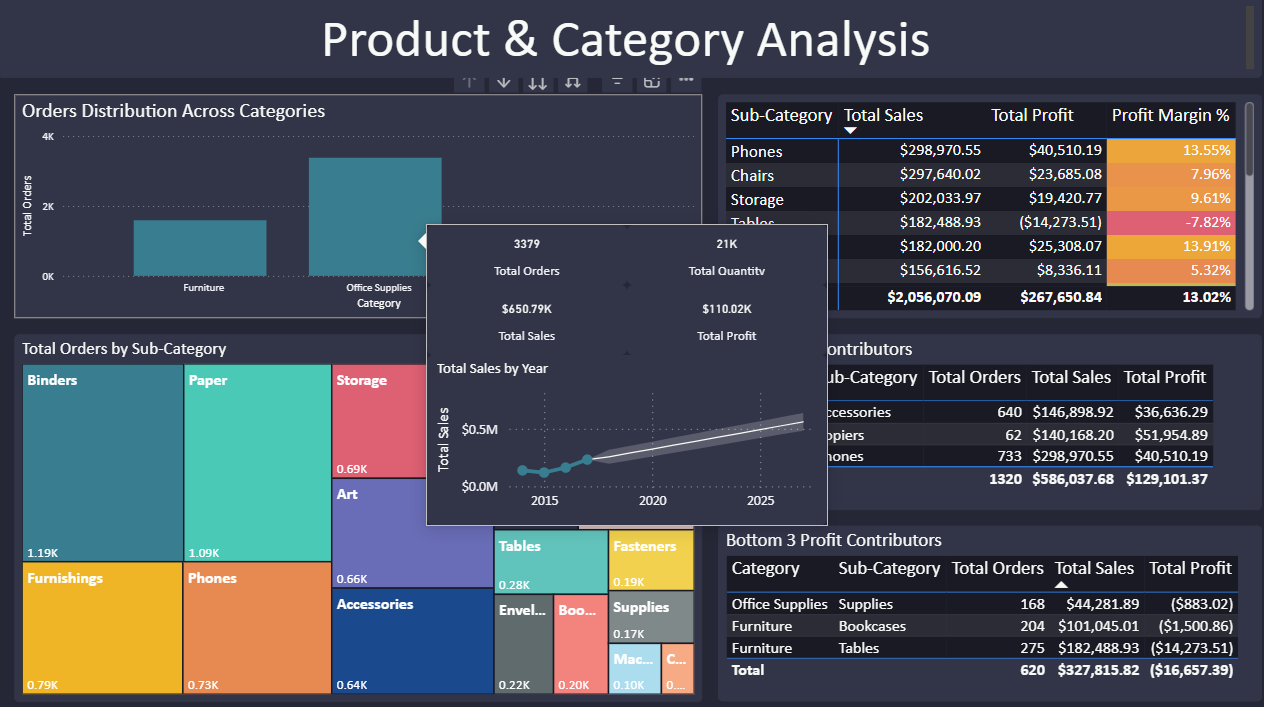

What the dashboard file says about the page in this screenshot:
{"tool":"powerbi","page":{"name":"Product & Category Analysis","canvas":[1280,720],"ordinal":1},"visuals":[{"type":"columnChart","title":"Orders Distribution Across Categories","fields":{"Y":["Orders.Total Orders"],"Category":["Orders.Category Hierarchy.Category","Orders.Category Hierarchy.Sub-Category"]},"box":[16,96,688,224],"z":0},{"type":"textbox","box":[0,0,1264,80],"z":1000},{"type":"pivotTable","fields":{"Values":["Orders.Total Sales","Orders.Total Profit","Orders.Profit Margin %"],"Rows":["Orders.Sub-Category"]},"box":[720,96,544,224],"z":2000},{"type":"tableEx","title":"Top 3 Profit Contributors","fields":{"Values":["Orders.Category","Orders.Sub-Category","Orders.Total Orders","Orders.Total Sales","Orders.Total Profit"]},"box":[720,336,544,176],"z":3000},{"type":"tableEx","title":"Bottom 3 Profit Contributors","fields":{"Values":["Orders.Category","Orders.Sub-Category","Orders.Total Orders","Orders.Total Sales","Orders.Total Profit"]},"box":[720,528,544,176],"z":4000},{"type":"treemap","fields":{"Values":["Orders.Total Orders"],"Group":["Orders.Category Hierarchy.Sub-Category"]},"box":[16,336,688,368],"z":5000}]}

Visuals, with their boxes on the page's 1280x720 design canvas (x1, y1, x2, y2). These are canvas units, not pixel positions in the 1264x707 screenshot, which may show the page scaled, cropped or inside an application window:
"Orders Distribution Across Categories" columnChart: bbox=(16, 96, 704, 320)
textbox: bbox=(0, 0, 1264, 80)
pivotTable - Orders.Total Sales x Orders.Total Profit: bbox=(720, 96, 1264, 320)
"Top 3 Profit Contributors" tableEx: bbox=(720, 336, 1264, 512)
"Bottom 3 Profit Contributors" tableEx: bbox=(720, 528, 1264, 704)
treemap - Orders.Total Orders x Orders.Category Hierarchy.Sub-Category: bbox=(16, 336, 704, 704)
